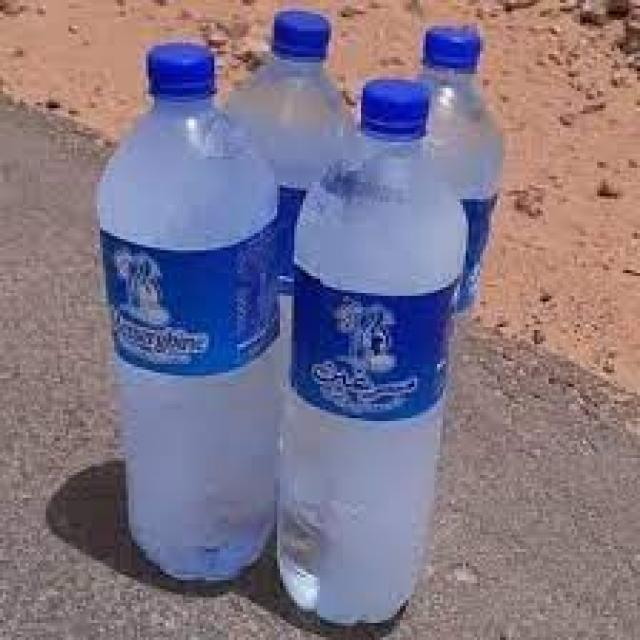Flask: (286, 82, 466, 638), (225, 3, 380, 601), (105, 46, 270, 592), (395, 28, 541, 596)
